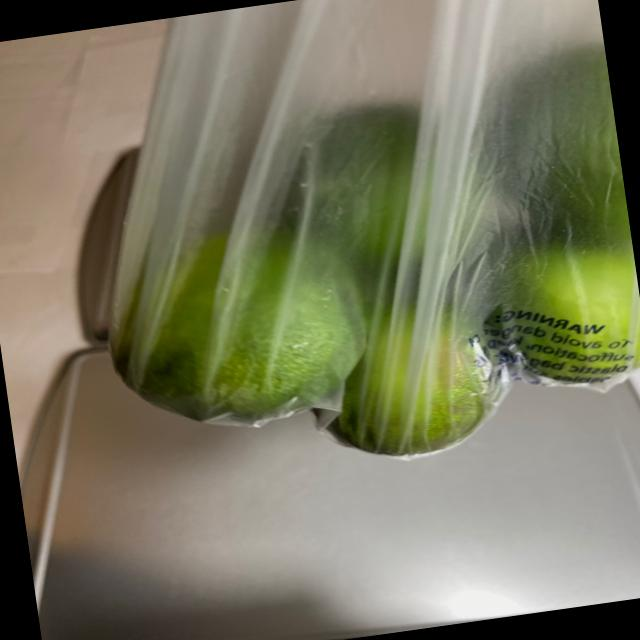lemon: (87, 58, 640, 477)
